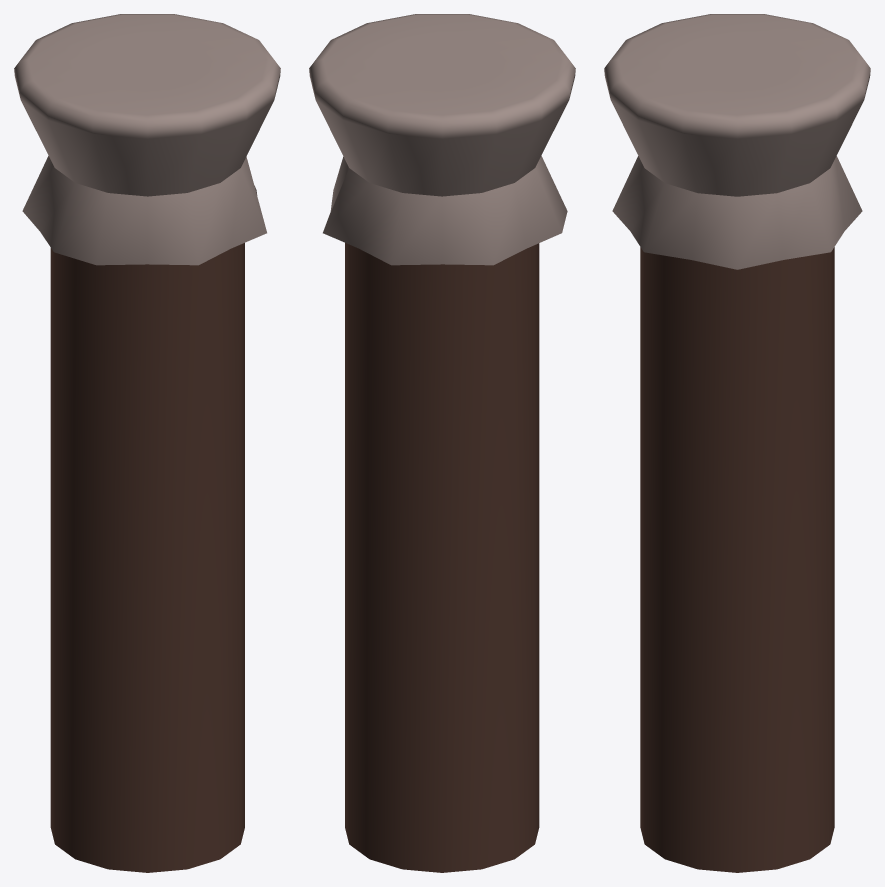
Rendered from misk_capsule1.fbx.
The picture shows the model from 3 angles, left to right: view 1: azimuth 30°, elevation 25°; view 2: azimuth 150°, elevation 25°; view 3: azimuth 270°, elevation 25°; orthographic projection.
Parts seen in each view (by area): view 1: parcelLeather_mesh; view 2: parcelLeather_mesh; view 3: parcelLeather_mesh.
Boxes of the visible parts, <box> form: parcelLeather_mesh: <box>14,14,280,872</box>; parcelLeather_mesh: <box>309,14,575,872</box>; parcelLeather_mesh: <box>604,14,870,872</box>.
Size of the model in its own units: 0.1532 by 0.4887 by 0.154.
